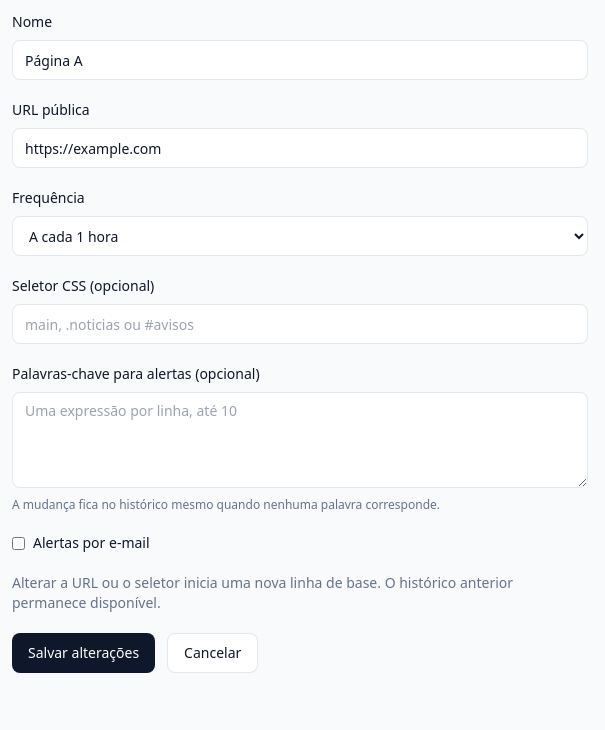
Test: automatic refresh › shows API validation errors and keeps the form available
Type "main[" into the field labelled "Seletor CSS (opcional)". click: (300, 324)
box: [12,304,588,344]
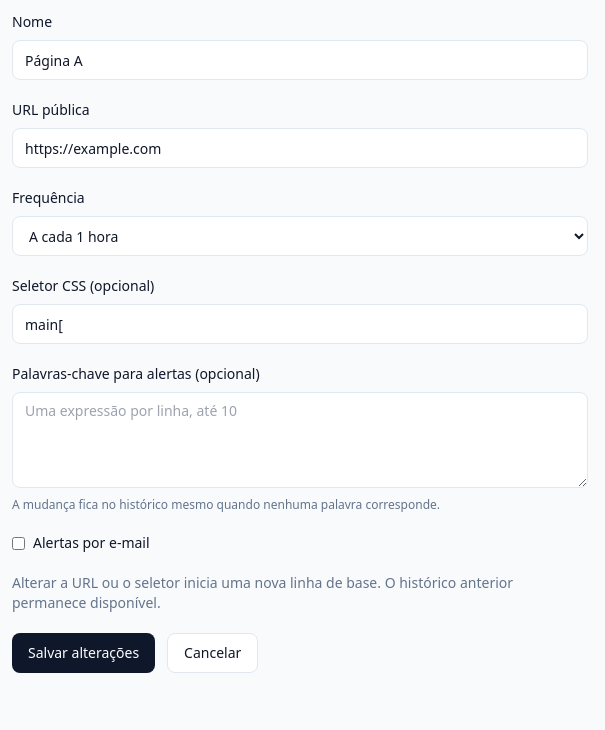
Submit the form named "Salvar alterações"
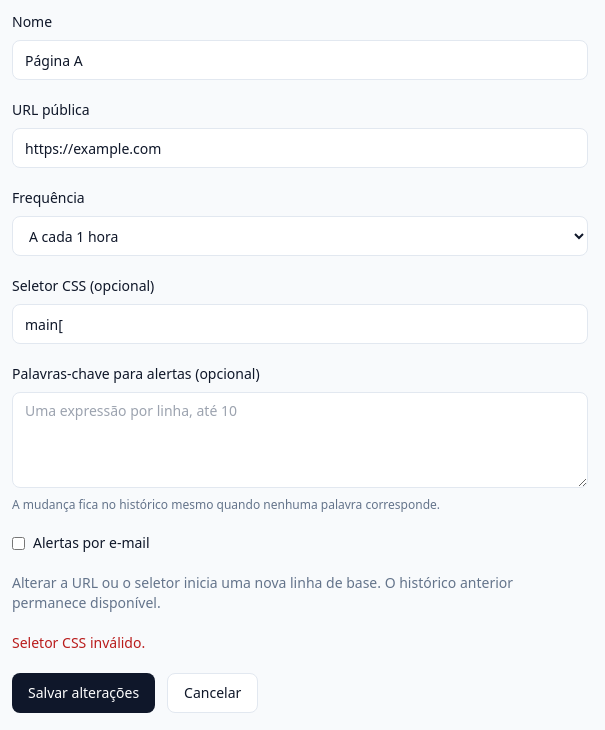
Expected: the button "Salvar alterações" is enabled, [12,673,155,713]
Expected: the message reads "Seletor CSS inválido.", [12,633,145,652]
